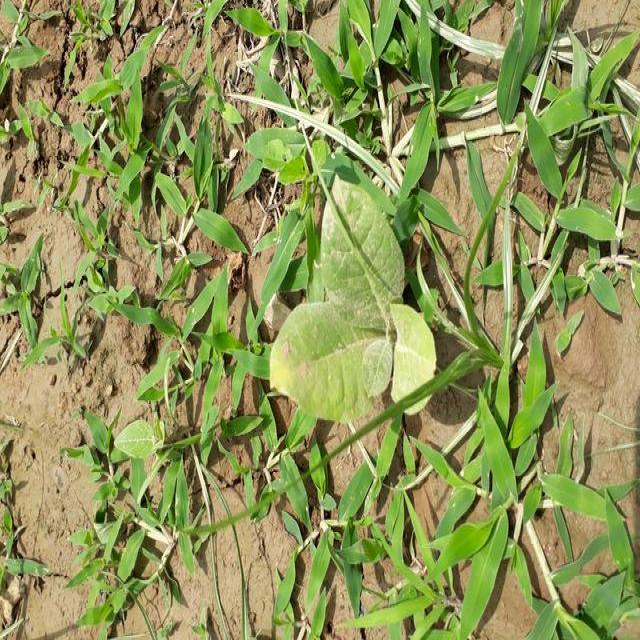crop: (272, 176, 434, 418)
